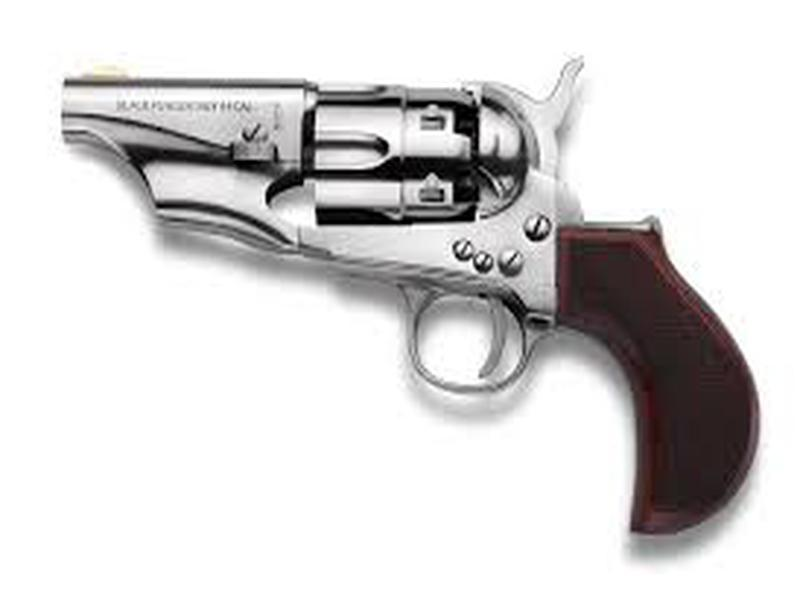gun: (57, 52, 768, 539)
